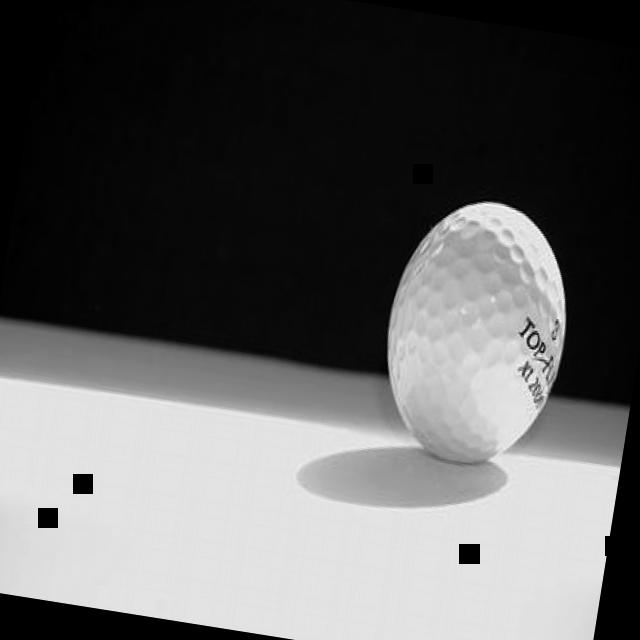golf ball: (362, 168, 596, 493)
